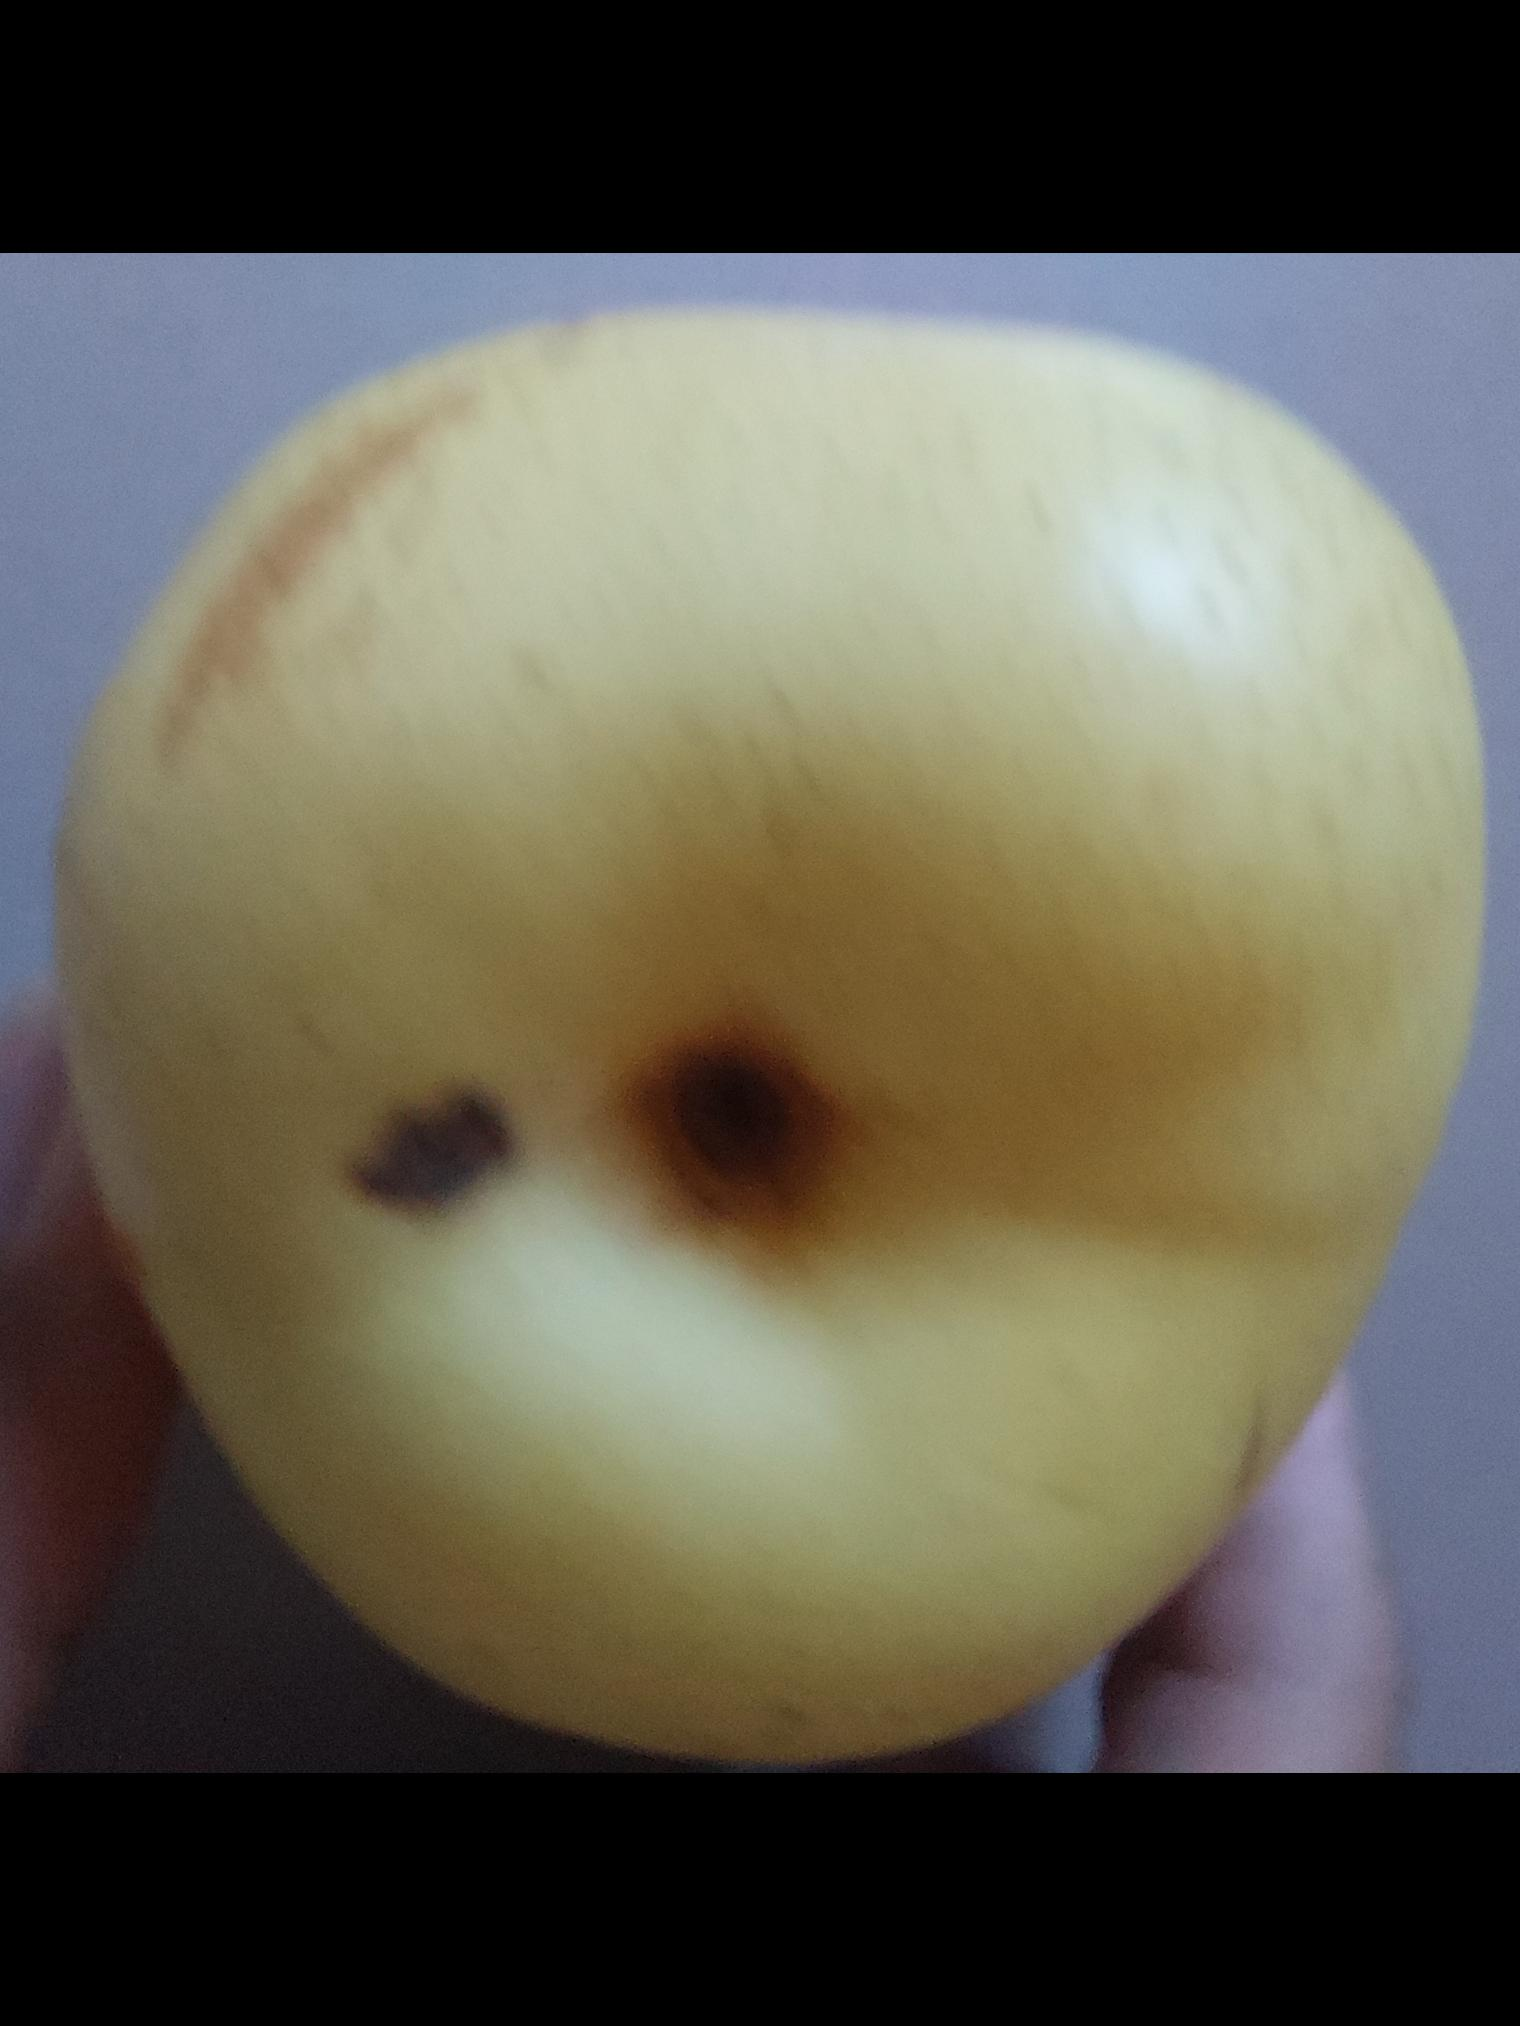Good Pear: (49, 291, 1485, 1759)
